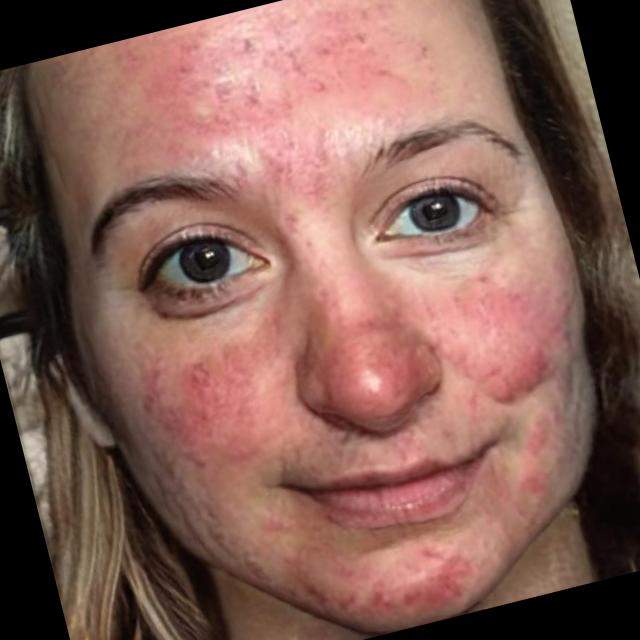redness: (110, 0, 436, 223), (291, 262, 580, 411), (141, 295, 288, 466), (253, 513, 478, 616), (507, 411, 562, 516)
